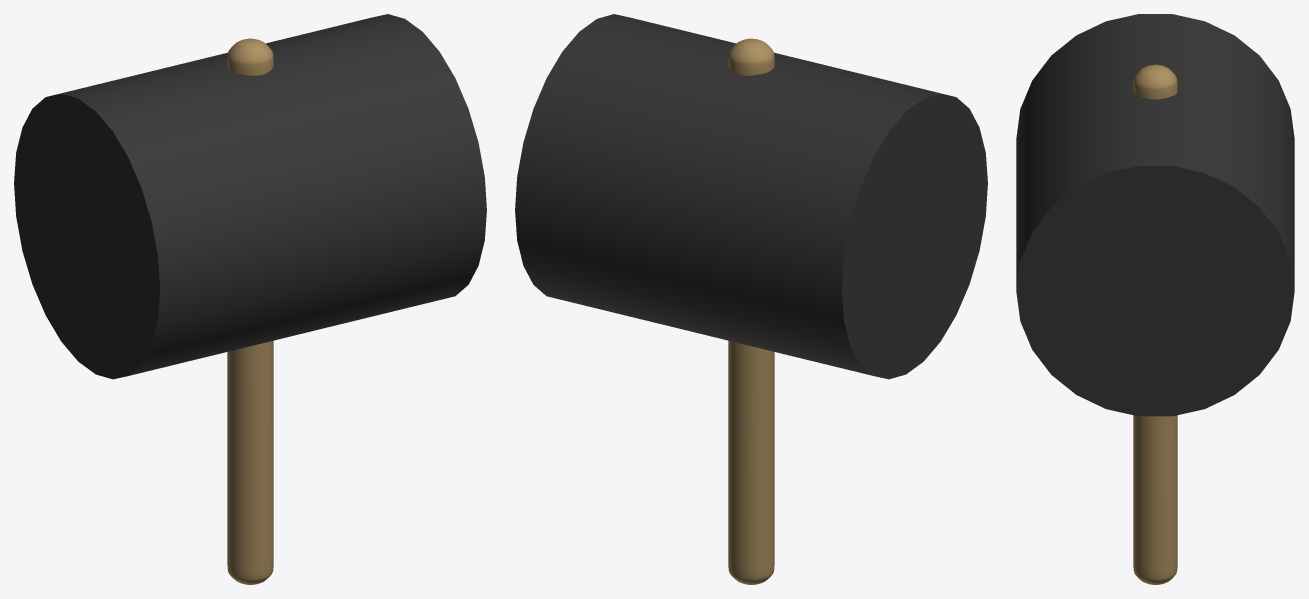
Rendered from MartellMario.fbx.
The picture shows the model from 3 angles, left to right: view 1: azimuth 30°, elevation 25°; view 2: azimuth 150°, elevation 25°; view 3: azimuth 270°, elevation 25°; orthographic projection. The views are drawn at different scales.
Parts seen in each view (by area): view 1: Cylinder.001; view 2: Cylinder.001; view 3: Cylinder.001.
Boxes of the visible parts, left/top/right/bottom form: Cylinder.001: left=14, top=14, right=486, bottom=584; Cylinder.001: left=515, top=14, right=987, bottom=584; Cylinder.001: left=1016, top=14, right=1294, bottom=584.
Bounding box in the file's own units: 425 × 672 × 329.
